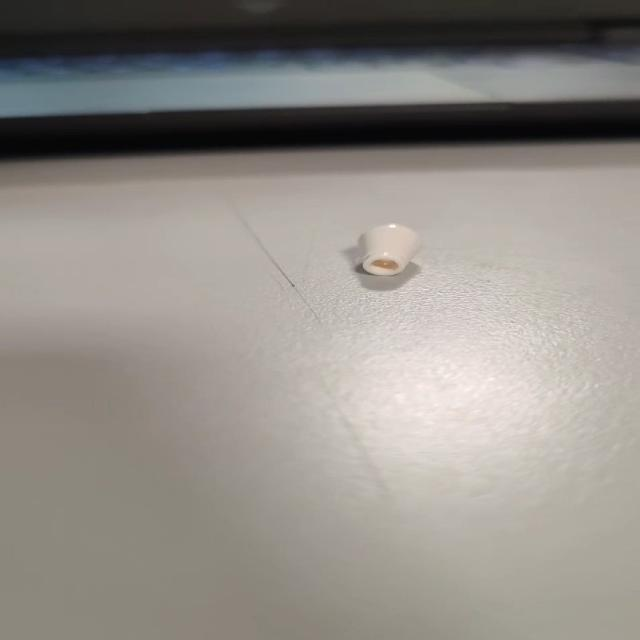Z1x1x1: (353, 221, 424, 280)
